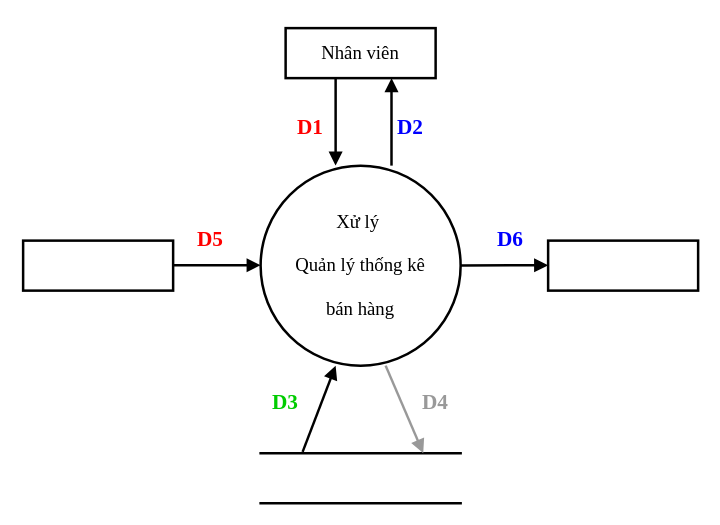
This 720x525 diagram has some shape labels left out. The shapes that lost their labels are listed below. From the top down, each one's centre as x and y in pixels, then its label:
At (97,265): "Thiết bị nhập".
At (622,265): "Thiết bị xuất".
